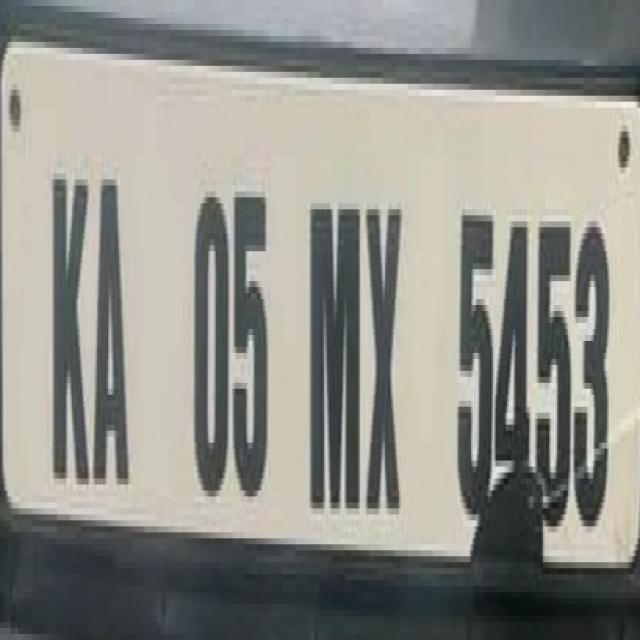0: (189, 156, 230, 520)
3: (574, 190, 614, 544)
5: (451, 175, 494, 547), (231, 155, 270, 512), (536, 177, 572, 558)
A: (90, 128, 141, 512)
K: (44, 136, 92, 508)
M: (306, 184, 364, 534)
X: (362, 194, 408, 539)
